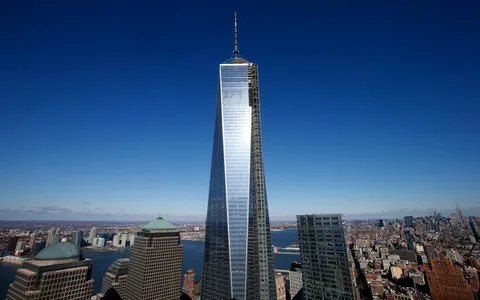high_rise_building: (203, 62, 279, 300)
